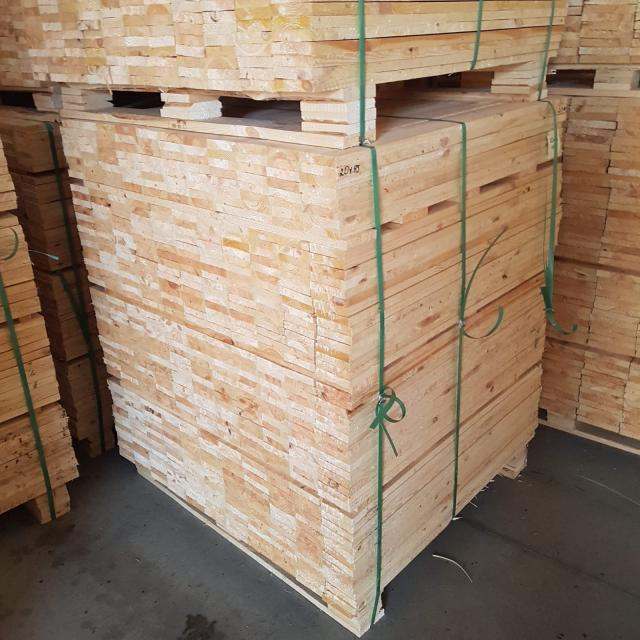Palette: (0, 70, 554, 141), (533, 394, 640, 460), (0, 470, 89, 537), (548, 61, 640, 91)
